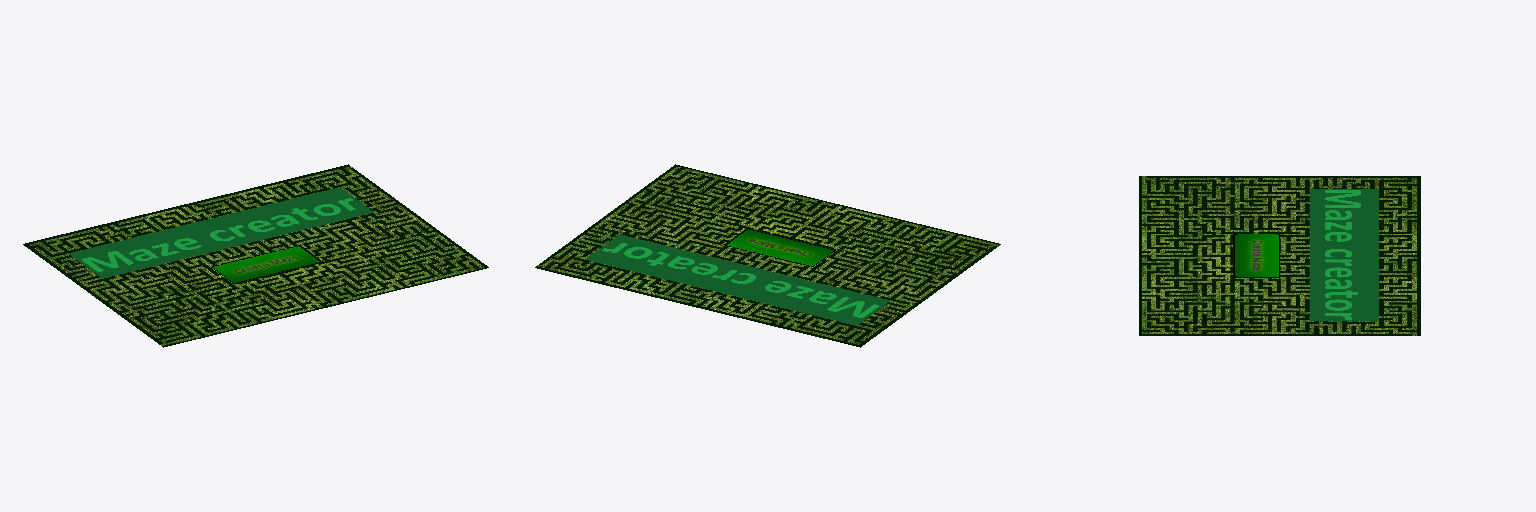
The picture shows the model from 3 angles: view 1: azimuth 30°, elevation 25°; view 2: azimuth 150°, elevation 25°; view 3: azimuth 270°, elevation 25°; orthographic projection.
Visible parts, largest first — view 1: Plane; view 2: Plane; view 3: Plane.
Boxes of the visible parts, box(x1,y1,x2,y2) form: Plane: box(23, 164, 488, 347); Plane: box(535, 164, 1000, 347); Plane: box(1139, 176, 1420, 335).
Size of the model in its own units: 8 by 0 by 6.
Materials: 1 (1 with a texture image).